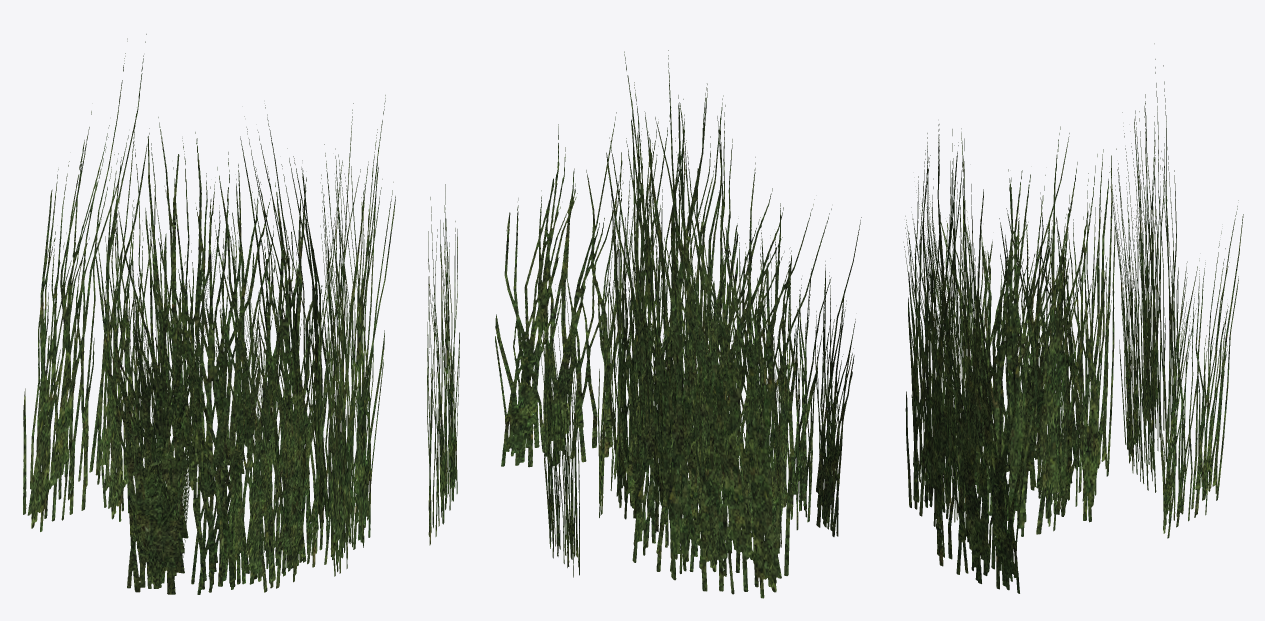
File: grass_3d_04.glb
3 views of the same model, side by side, from view 1: azimuth 30°, elevation 25°; view 2: azimuth 150°, elevation 25°; view 3: azimuth 270°, elevation 25° (orthographic). The views are drawn at different scales.
Parts seen in each view (by area): view 1: grass_cards; view 2: grass_cards; view 3: grass_cards.
Boxes of the visible parts, box(x1,y1,x2,y2) form: grass_cards: box(23, 34, 459, 594); grass_cards: box(495, 50, 861, 598); grass_cards: box(903, 43, 1243, 593).
Size of the model in its own units: 0.6428 by 0.7966 by 0.546.
1 material, 1 textured.
